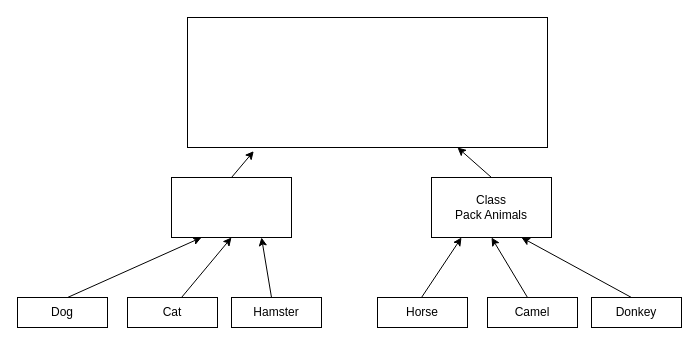
Some shapes in this 699 by 345 pixel diagram are drawn without their labels. Each missing label, with the centre of its shape:
Class Animals -name: string -birthday: date -commands: list: point 367,82
Class Pets: point 231,207
